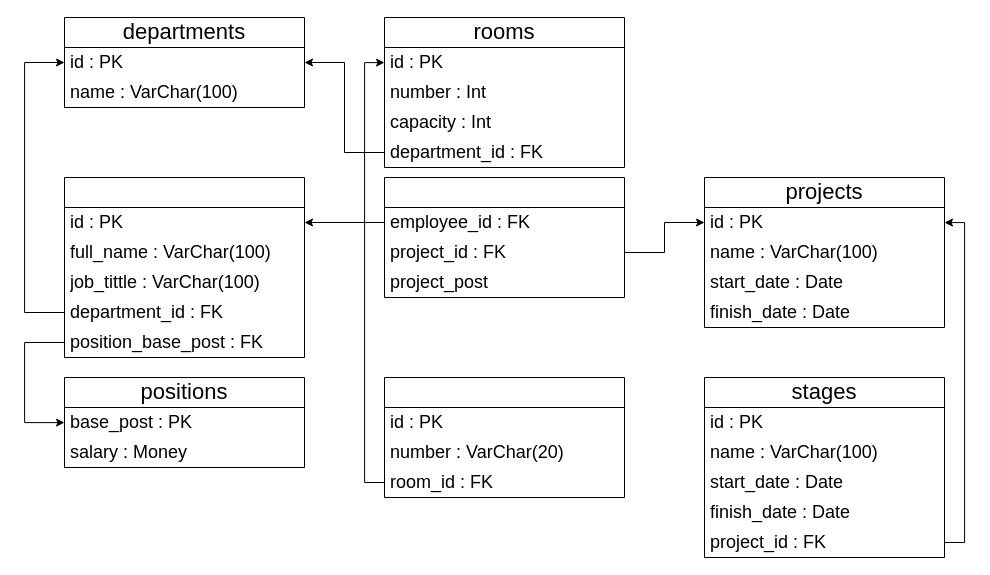
Some shapes in this 990 by 575 pixel diagram are drawn without their labels. Each missing label, with the box of its shape:
employee: (64, 176, 304, 358)
employee_project: (384, 176, 624, 298)
phone_numbers: (384, 376, 624, 498)
